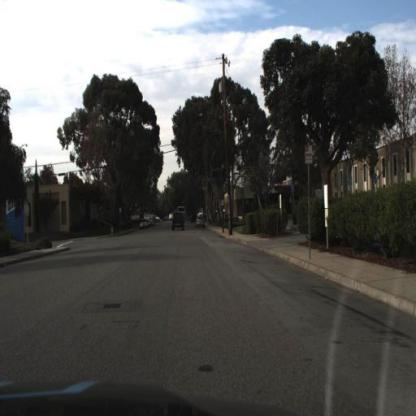car: (171, 210, 187, 232)
